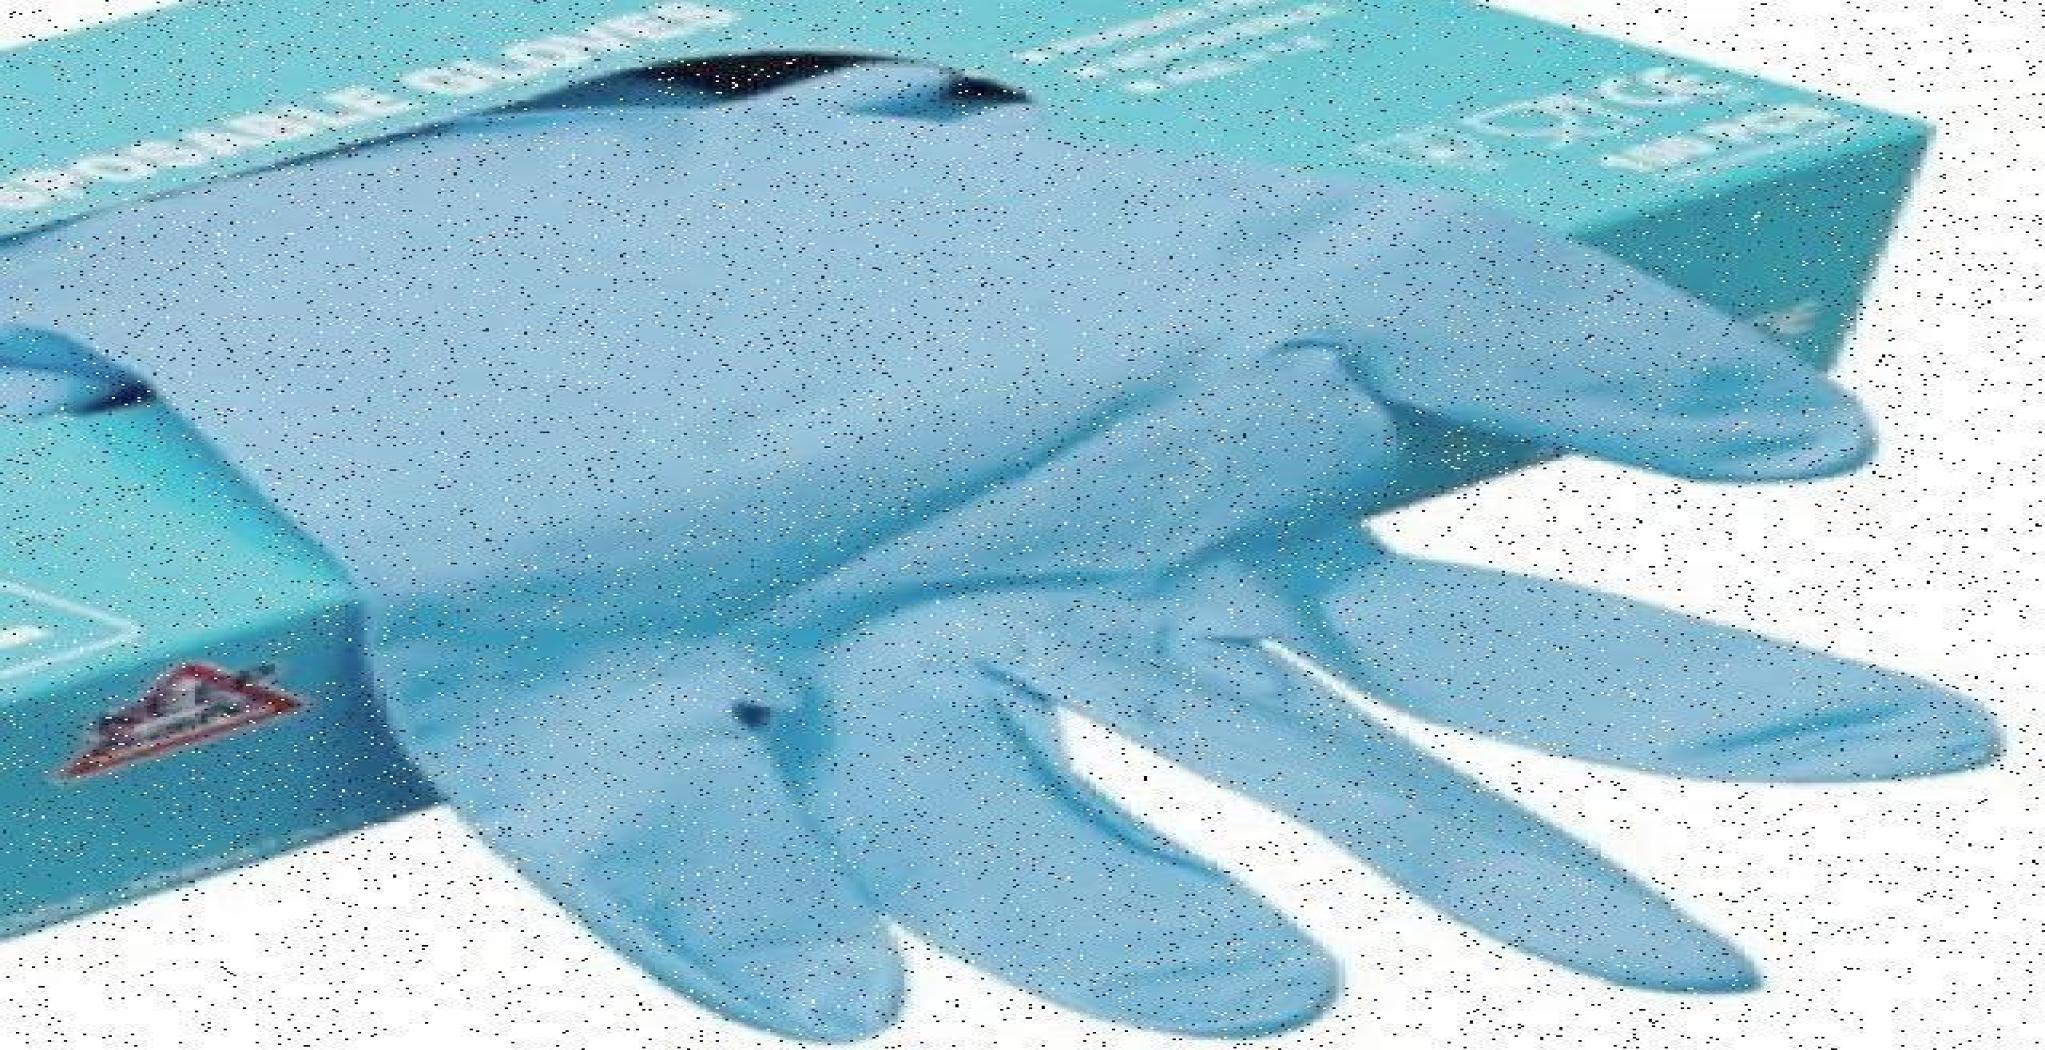gloved: (19, 0, 1777, 971)
